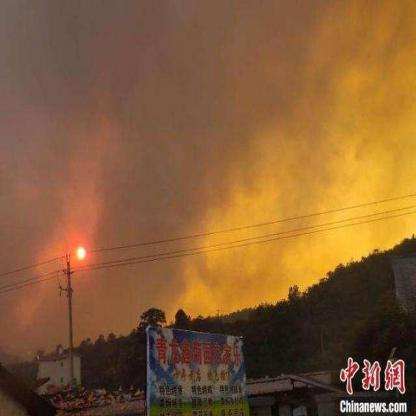other: (71, 239, 86, 264)
smoke: (112, 70, 223, 309), (2, 16, 103, 235)
